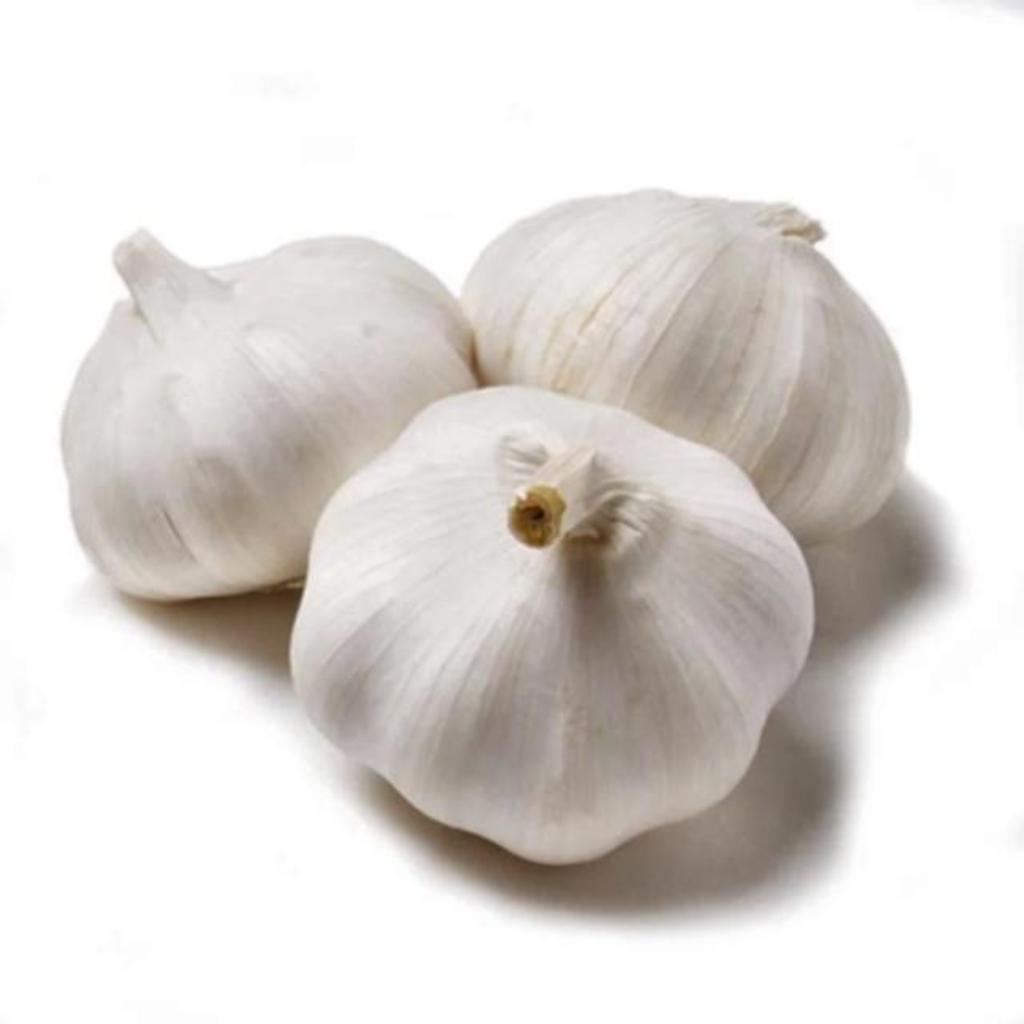garlic: (292, 388, 814, 863), (462, 190, 910, 541), (62, 232, 476, 600)
